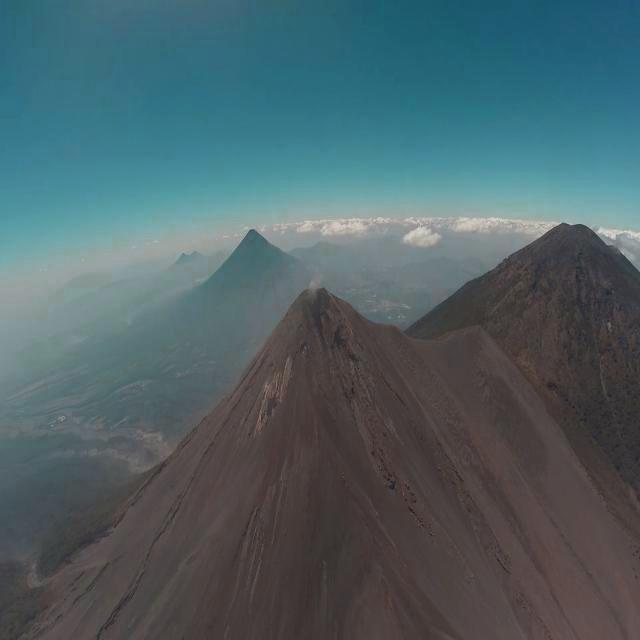Summit: (206, 282, 410, 443)
